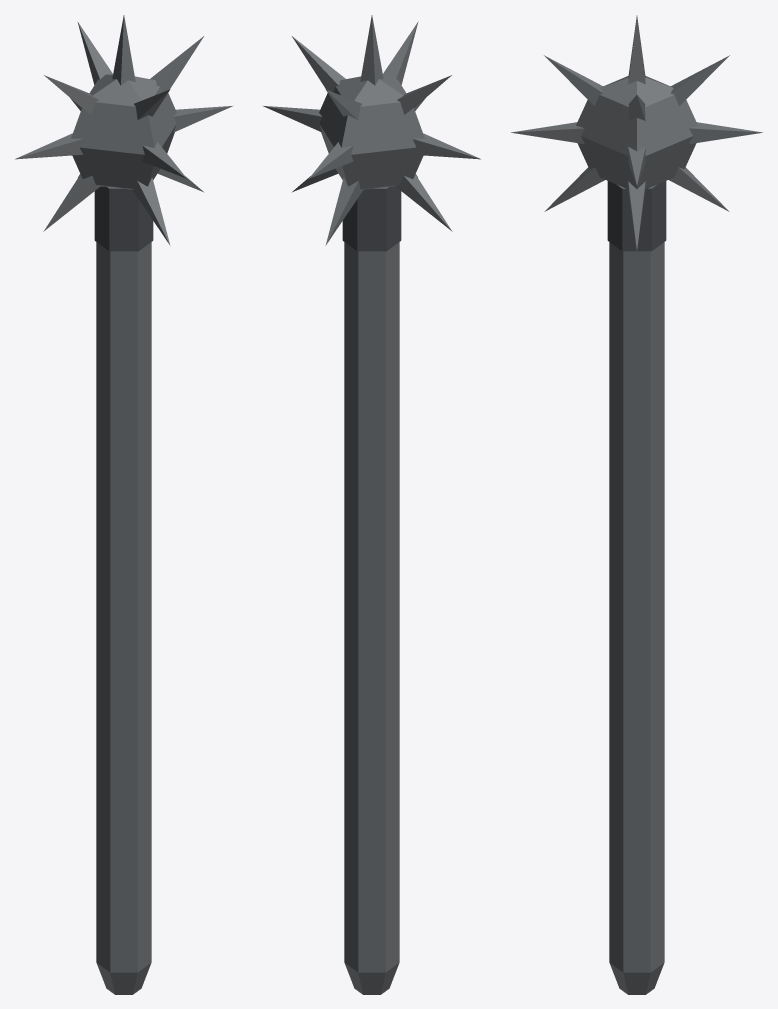
The model's file is Mace.001.fbx.
3 views of the same model, side by side, from view 1: azimuth 30°, elevation 25°; view 2: azimuth 150°, elevation 25°; view 3: azimuth 270°, elevation 25° (orthographic).
Parts seen in each view (by area): view 1: Mace.001; view 2: Mace.001; view 3: Mace.001.
Part boxes in pixels (left/top/right/bottom): Mace.001: left=15, top=15, right=233, bottom=994; Mace.001: left=262, top=15, right=480, bottom=994; Mace.001: left=511, top=15, right=762, bottom=994.
Size of the model in its own units: 16.24 by 68.77 by 16.24.
